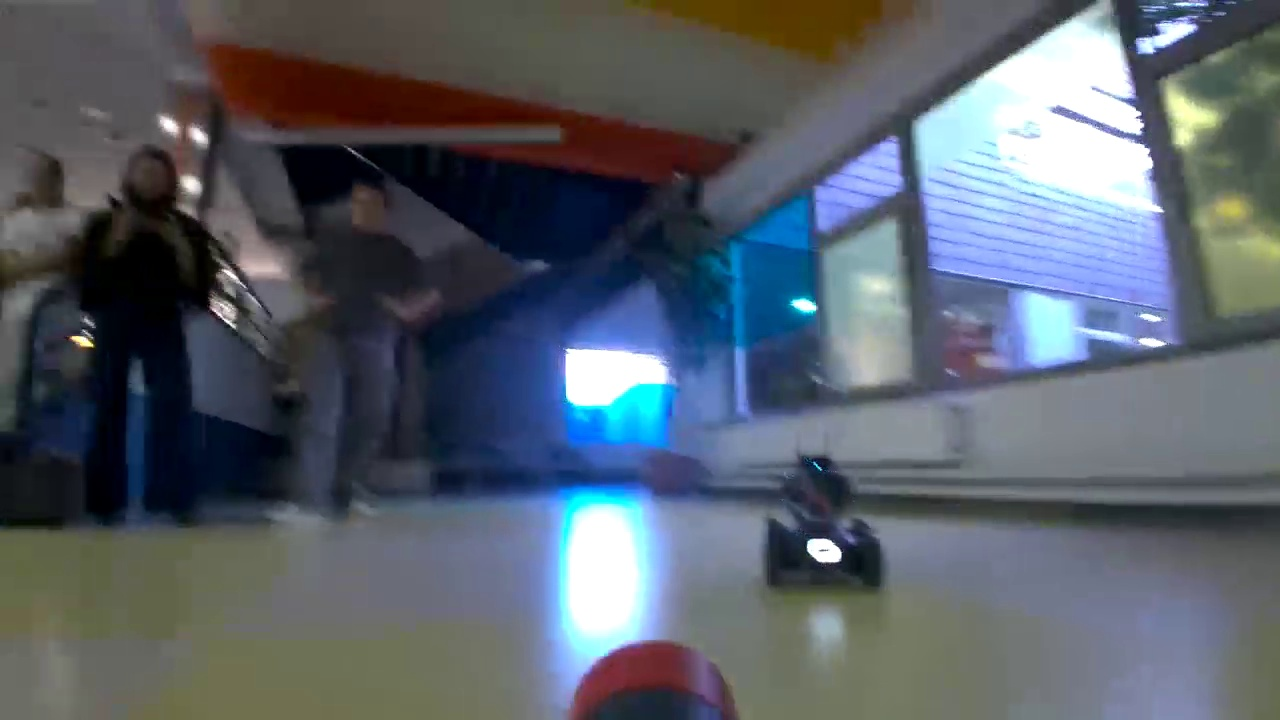robot: (759, 453, 883, 590)
